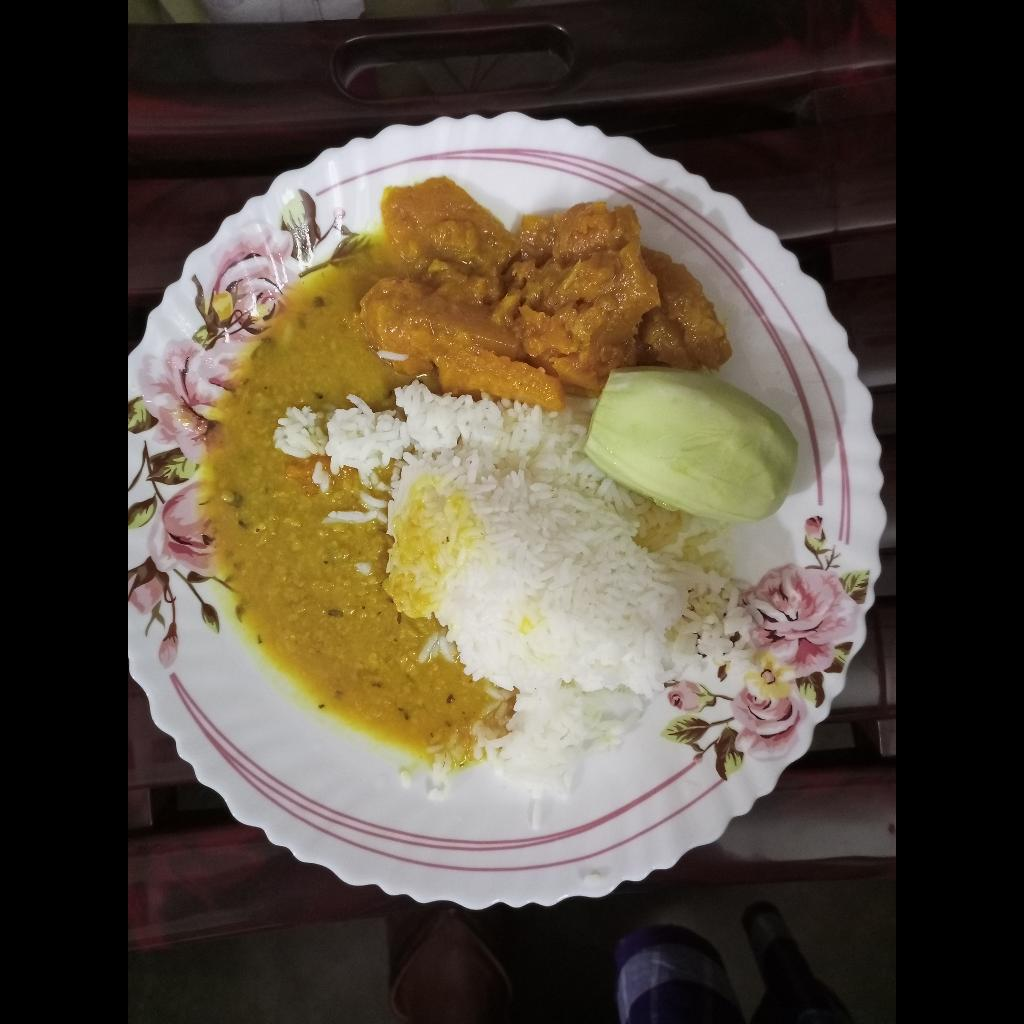cucumber: (585, 369, 800, 531)
daal: (200, 238, 498, 774)
kumra-vaji: (361, 170, 733, 399)
rice: (277, 382, 801, 828)
